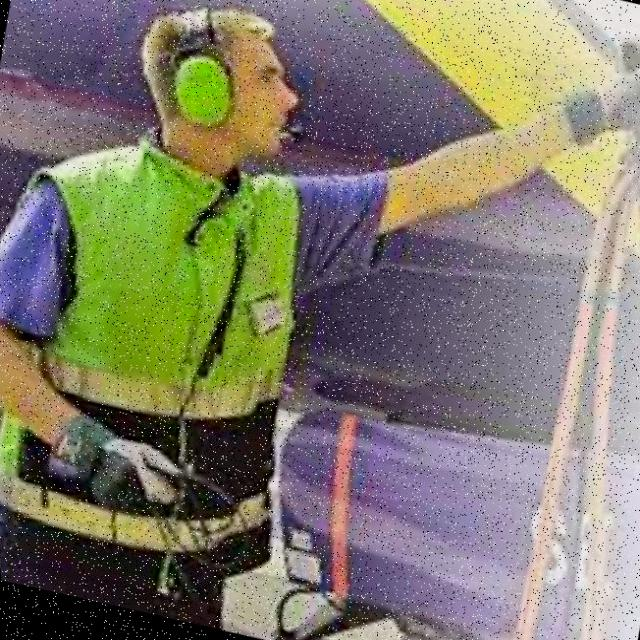Earmuffs: (175, 54, 232, 126)
No Hardhat: (142, 8, 276, 115)
